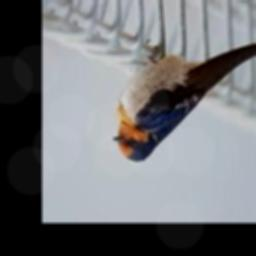Swallow: (112, 36, 256, 161)
